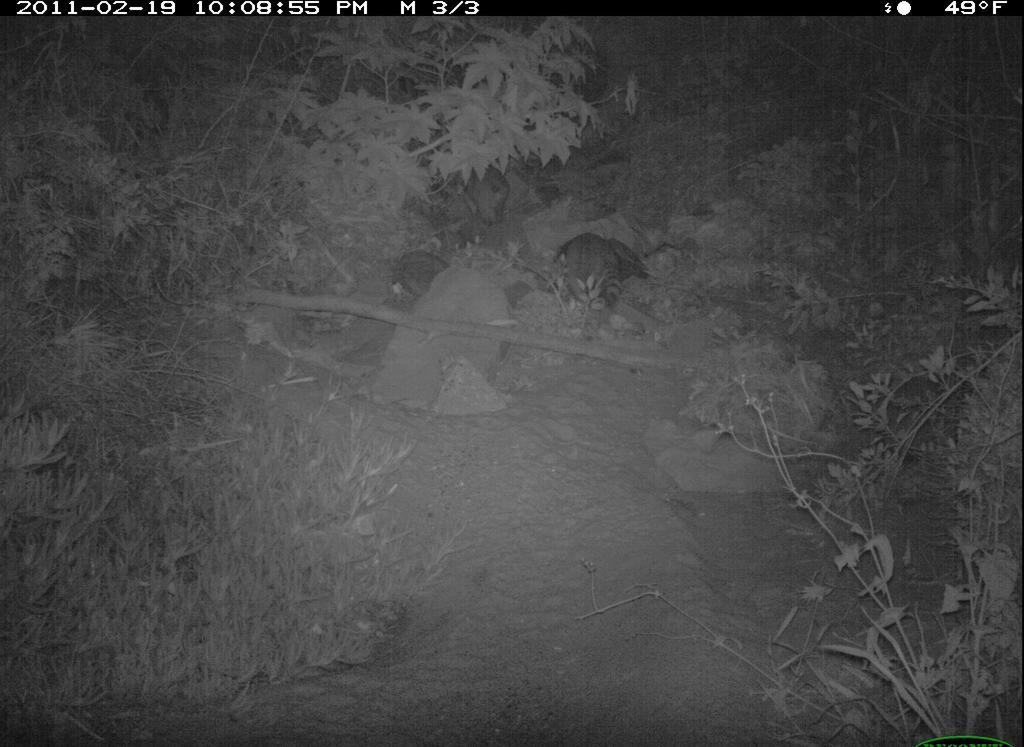raccoon: (543, 222, 635, 322)
